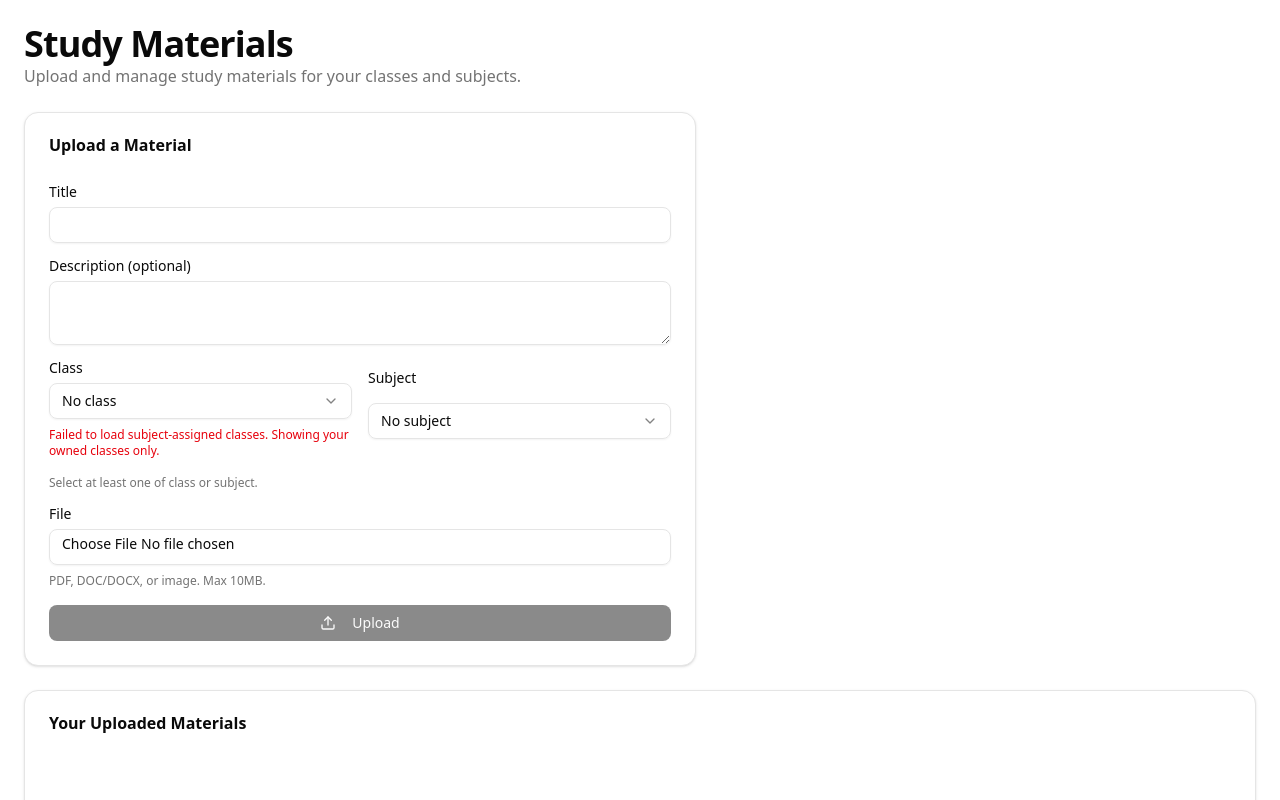
Test: TeacherMaterialsPage — subject-assignments query fails › still shows owned classes and degrades gracefully instead of blanking the picker
The image size is (1280, 800).
What coordinates should you click on to do the following:
click the dropdown labelled "class"
I would click on:
 (89, 400)
Its box is [49,383,352,419].
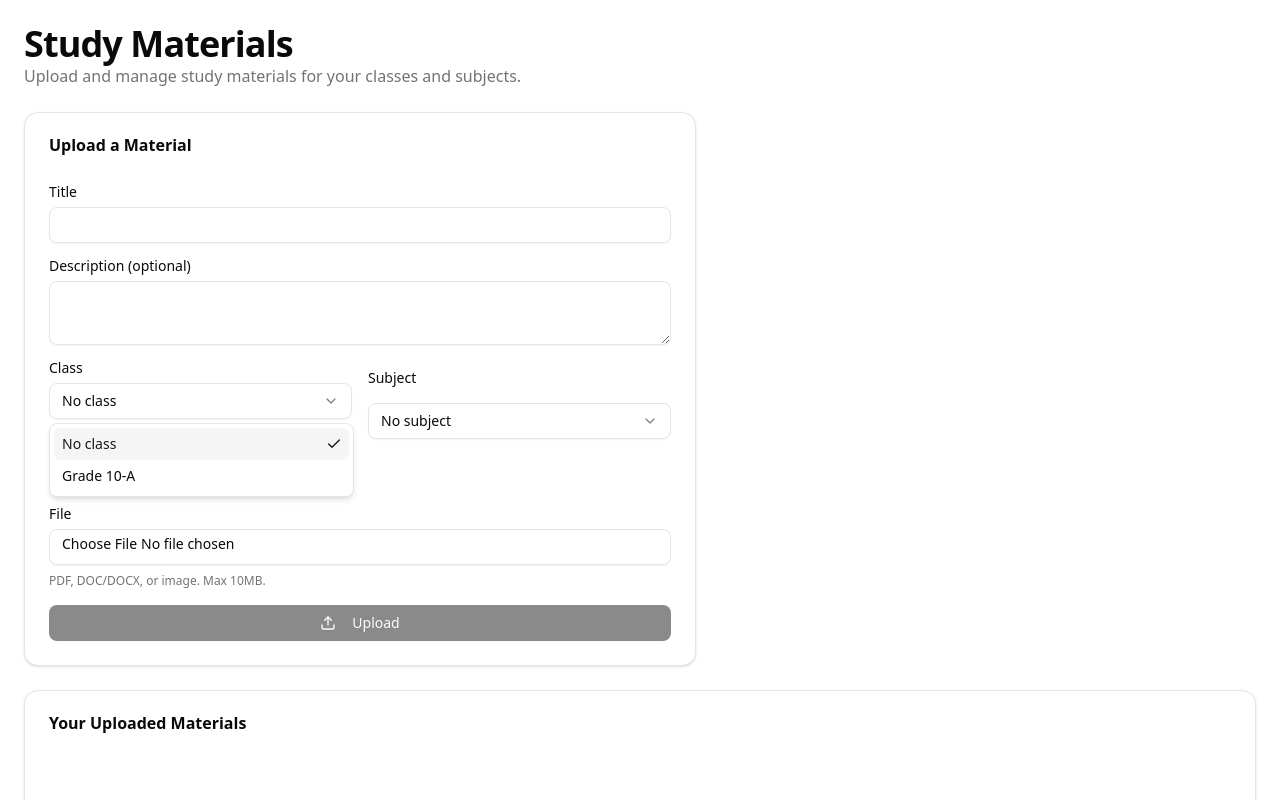
Expected: the text "Failed to load subject-assigned classes" is shown, [49,426,349,459]
Now the option "Grade 10-A" is shown, box [62,466,135,485]
